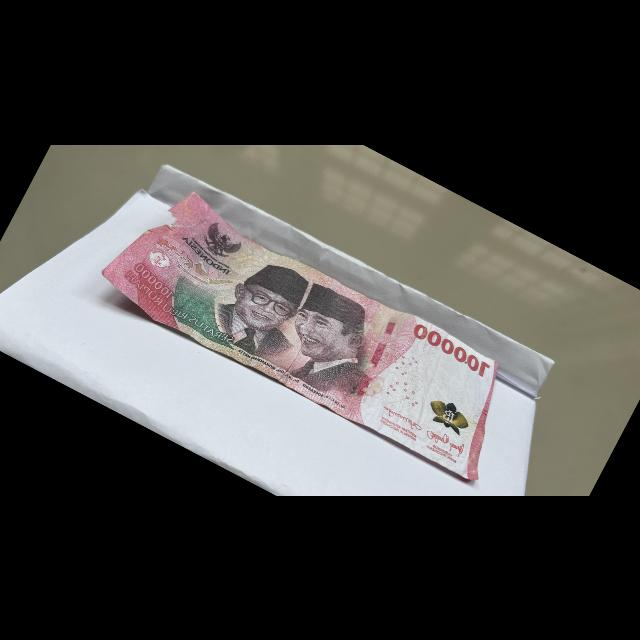Palsu-100k: (82, 163, 540, 501)
Tinta-Palsu-100k: (422, 393, 475, 438)
